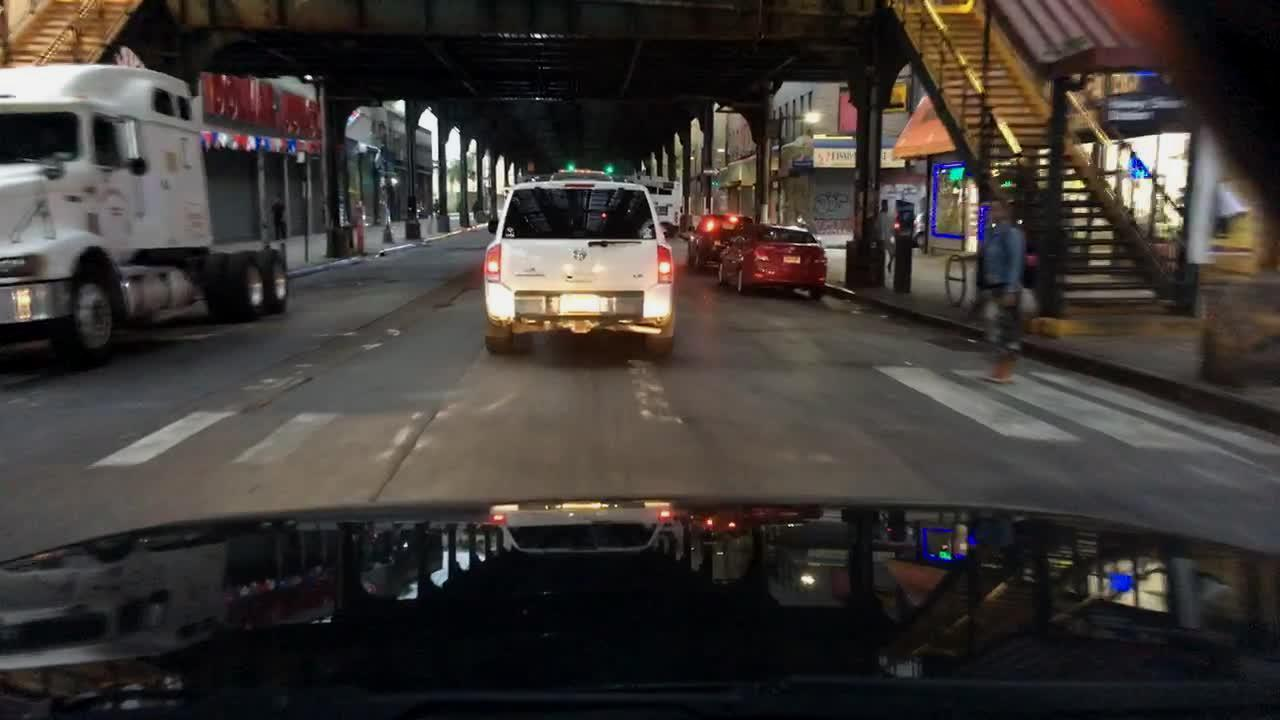Volkswagen: (571, 247, 589, 266)
